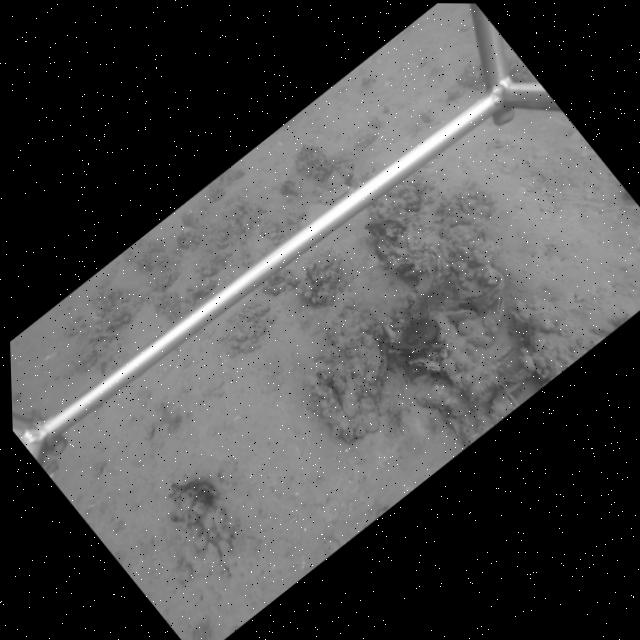Oyster-Closed: (458, 267, 506, 305), (357, 331, 389, 386), (410, 381, 464, 410), (405, 355, 441, 374), (492, 293, 507, 324), (448, 308, 475, 323)
Oyster-Indeterminate: (363, 217, 406, 239)
Oyster-Open: (487, 341, 520, 366)
